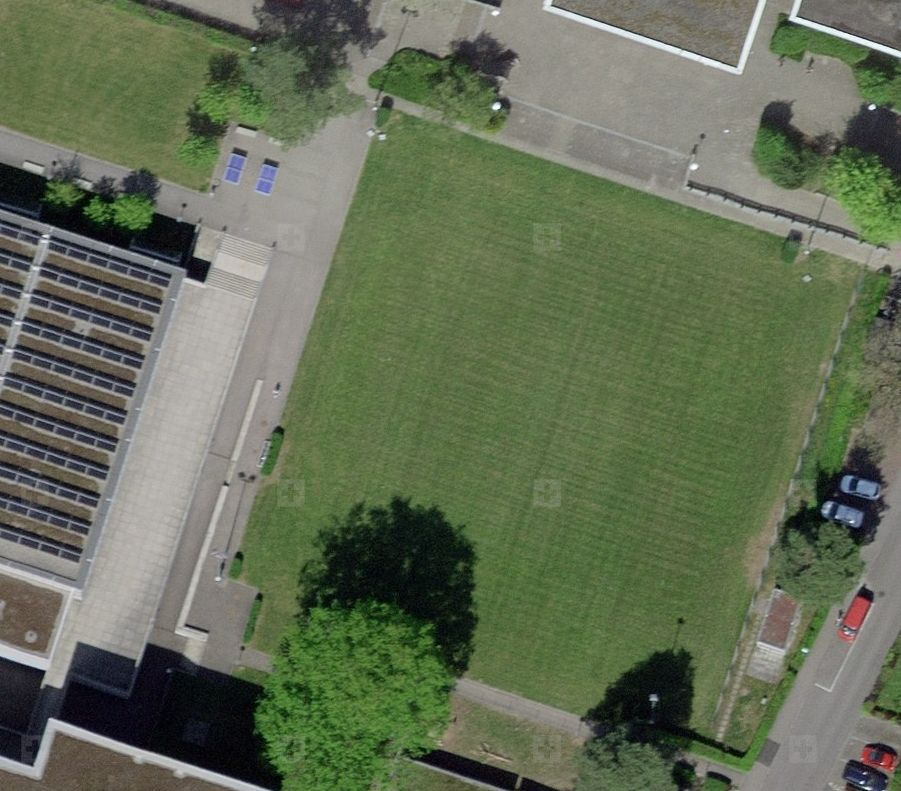solar: (1, 215, 172, 567)
